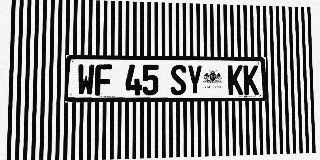4: (125, 64, 142, 95)
5: (143, 64, 159, 95)
F: (95, 64, 112, 96)
K: (243, 65, 259, 95), (228, 65, 243, 95)
S: (170, 65, 186, 95)
W: (77, 64, 95, 96)
Y: (187, 65, 203, 95)
